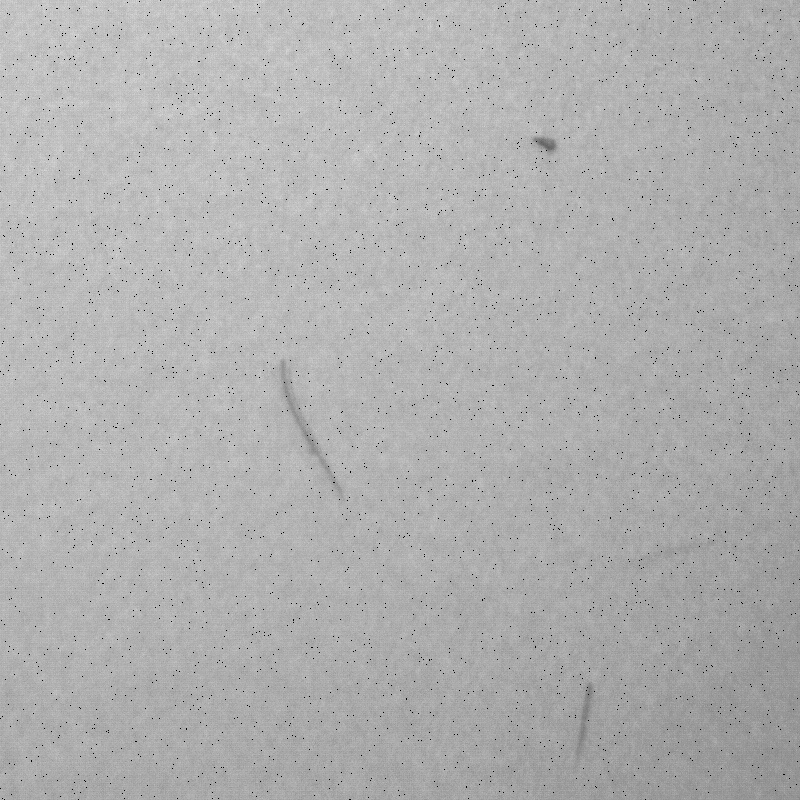defect: (271, 354, 353, 503), (571, 676, 599, 776), (529, 132, 560, 156)
